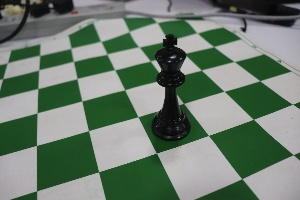black_king: (136, 18, 197, 147)
